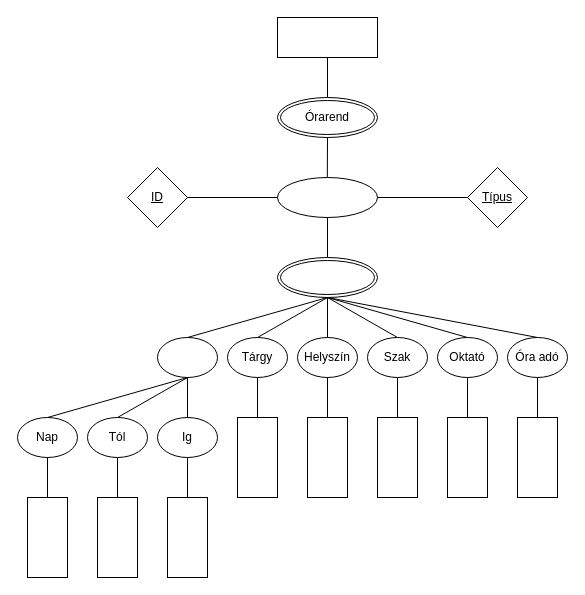
The diagram is 585 pixels wide and 595 high, and some of its shapes have lost their labels. The shapes that lost their labels are listed below. From the top down, each one's centre as x and y in pixels, then its label:
point 327,37: Órarendek
point 327,197: Órák
point 327,277: Óra
point 187,357: Időpont
